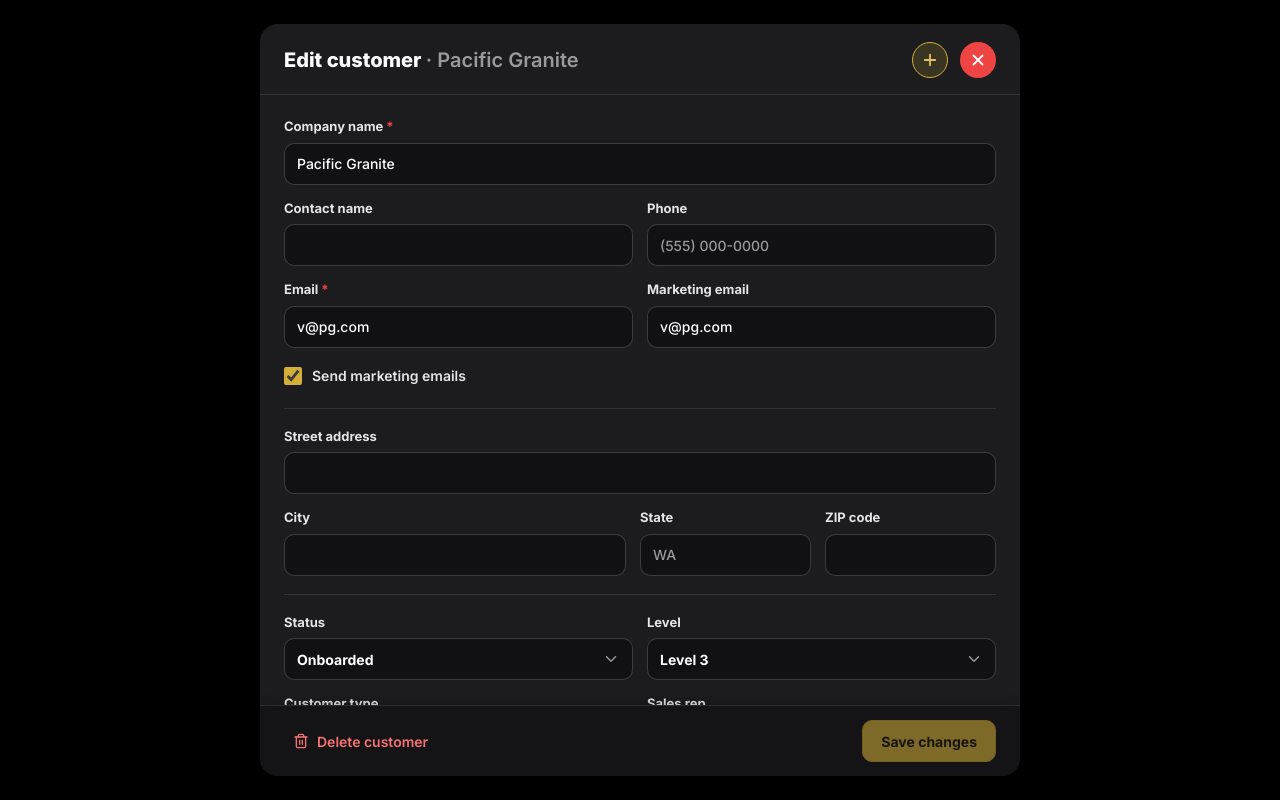
Test: Add / Edit customer › edits a customer, with Delete until something changes
Expected: the heading "Edit customer · Pacific Granite" is shown, left=284, top=48, right=579, bottom=72
Expected: the button "Delete customer" is enabled, left=284, top=720, right=437, bottom=762
Step 1. Replace the text in the field with id "cf-company" with "Pacific Granite 2" → (640, 164), box left=284, top=142, right=996, bottom=184
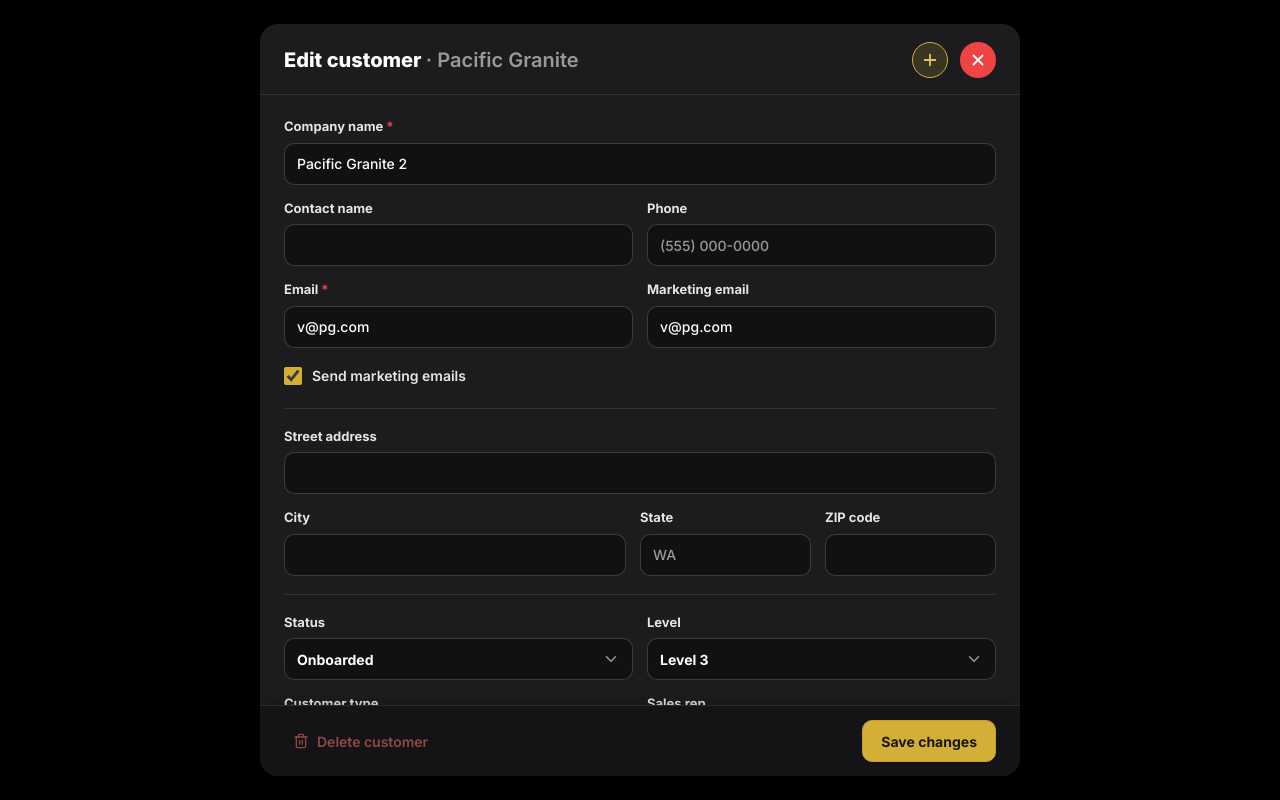
Now the button "Delete customer" is disabled, box left=284, top=720, right=437, bottom=762
Now the button "Save changes" is enabled, box left=862, top=720, right=996, bottom=762
